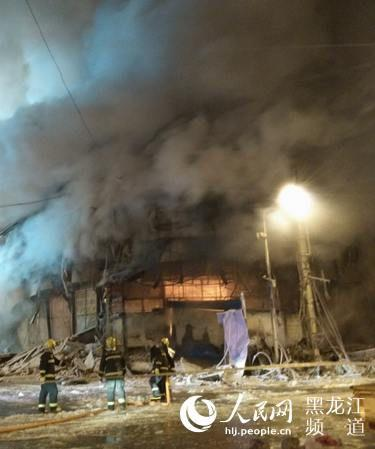smoke: (19, 13, 352, 256)
